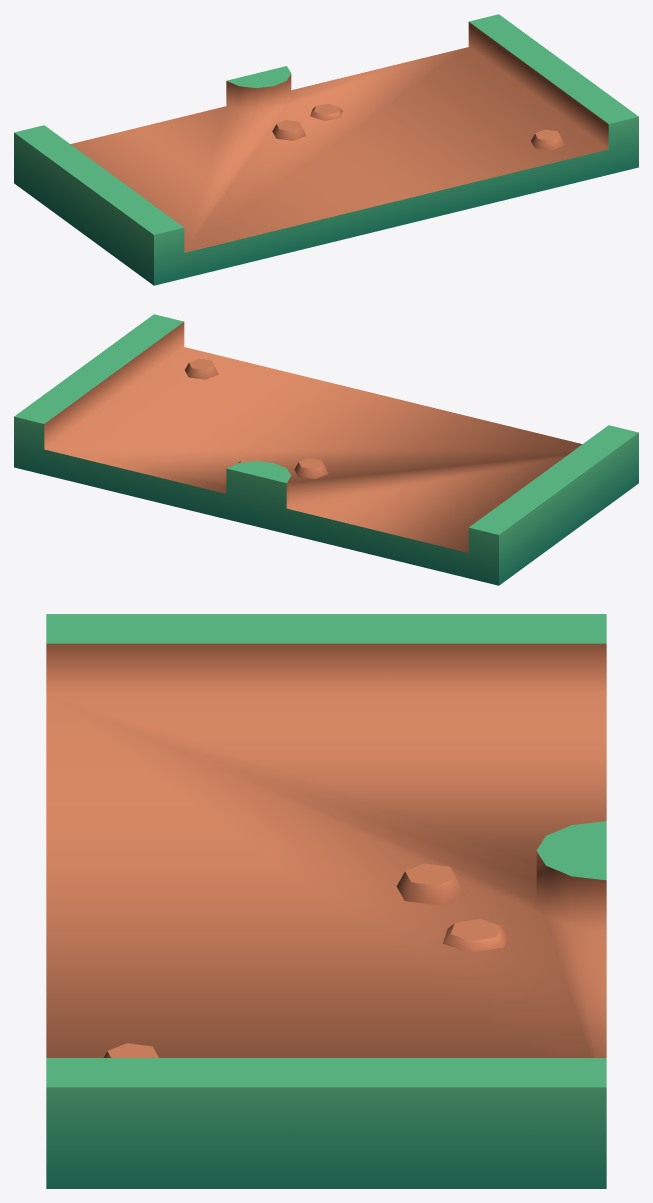
File: tile-wide-split.fbx
The picture shows the model from 3 angles, top to bottom: view 1: azimuth 30°, elevation 25°; view 2: azimuth 150°, elevation 25°; view 3: azimuth 270°, elevation 25°; orthographic projection. The views are drawn at different scales.
Parts seen in each view (by area): view 1: tile-wide-split; view 2: tile-wide-split; view 3: tile-wide-split.
Part boxes in pixels (bbox=[...]): tile-wide-split: bbox=[14, 14, 638, 285]; tile-wide-split: bbox=[14, 314, 638, 585]; tile-wide-split: bbox=[46, 614, 606, 1188].
Bounding box in the file's own units: 200 × 20 × 100.
